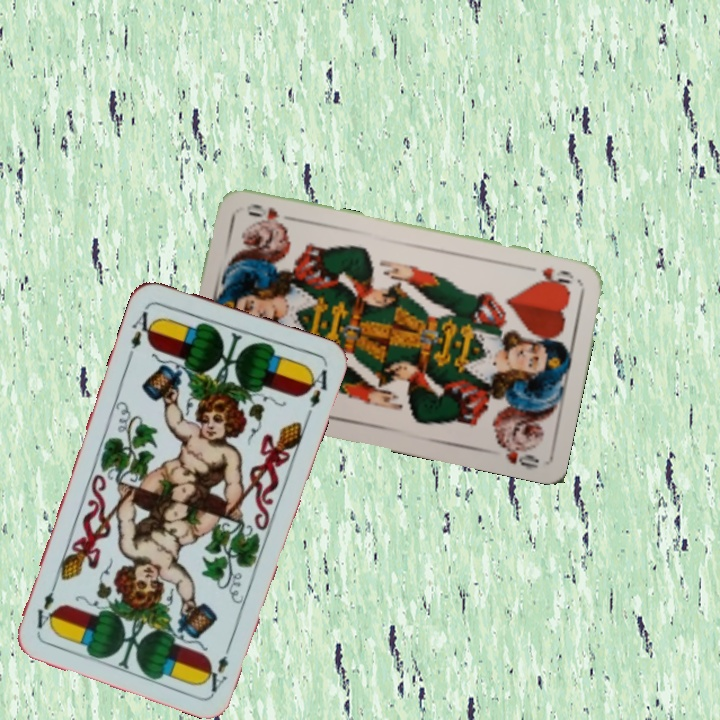EA: (200, 638, 235, 695), (124, 302, 158, 360)
HO: (531, 263, 577, 290)
